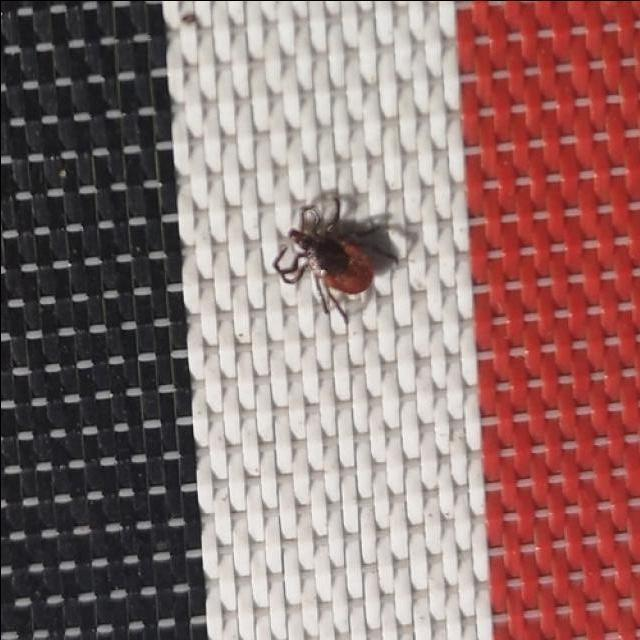Ixodes Ricinus-F: (271, 199, 398, 323)
